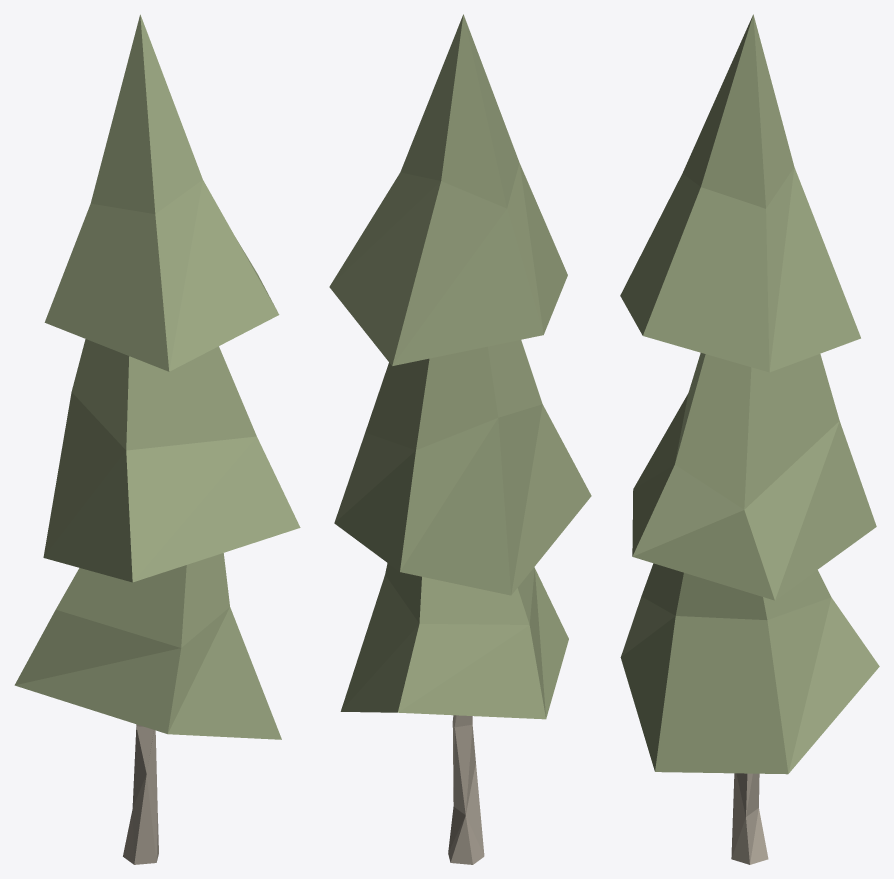
The model's file is PinusContorta.glb.
3 views of the same model, side by side, from view 1: azimuth 30°, elevation 25°; view 2: azimuth 150°, elevation 25°; view 3: azimuth 270°, elevation 25° (orthographic).
Parts seen in each view (by area): view 1: Crown, Trunk; view 2: Crown, Trunk; view 3: Crown, Trunk.
Part boxes in pixels (x1,y1,x2,y2): Crown: (14, 14, 300, 739); Trunk: (123, 724, 158, 864); Crown: (329, 14, 591, 719); Trunk: (448, 715, 484, 864); Crown: (620, 14, 879, 774); Trunk: (731, 773, 768, 864).
Bounding box in the file's own units: 12.26 × 42.91 × 11.98.
